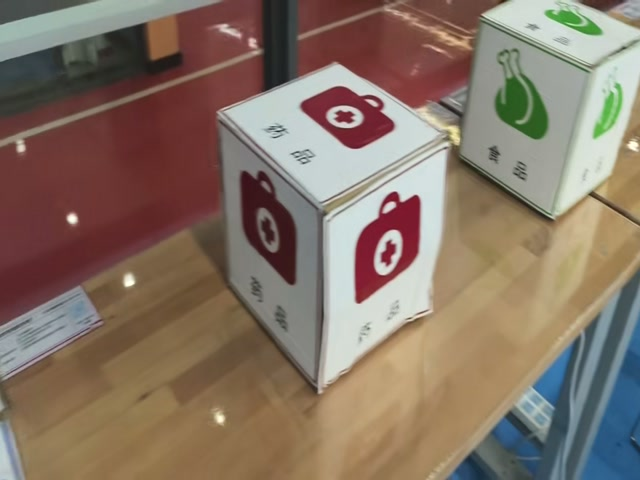Cube_food: (482, 0, 640, 79)
Cube_medicine: (217, 61, 453, 210)
